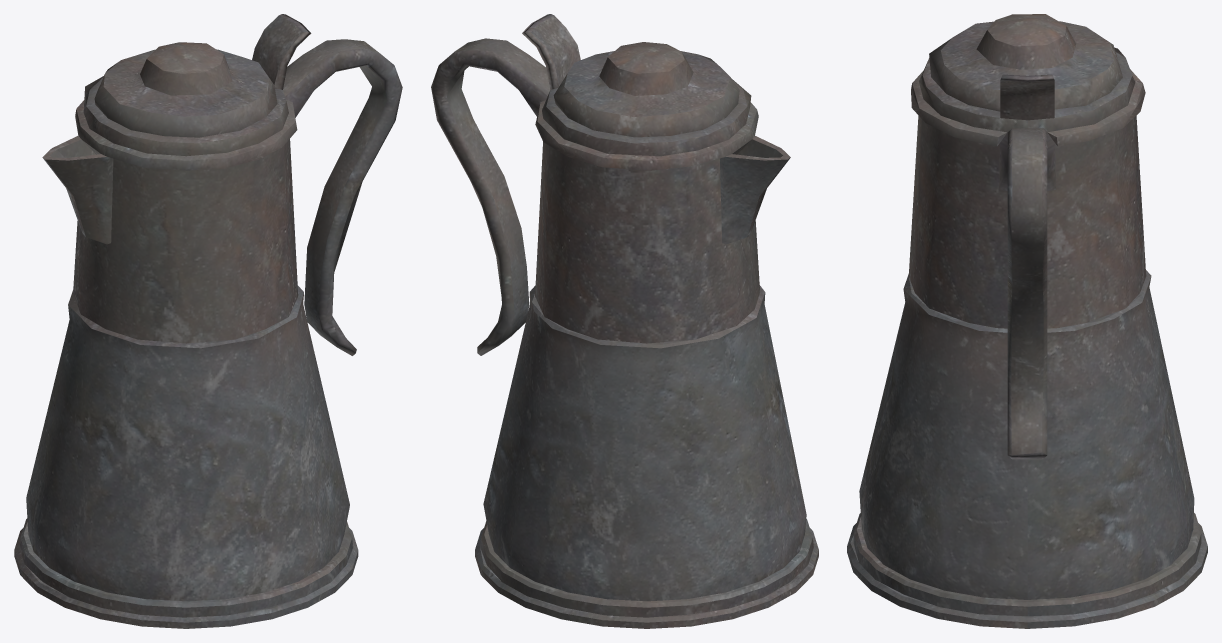
Rendered from SM_Flagon_01.fbx.
3 renders of one model, left to right at view 1: azimuth 30°, elevation 25°; view 2: azimuth 150°, elevation 25°; view 3: azimuth 270°, elevation 25°, orthographic. The views are drawn at different scales.
Visible parts, largest first — view 1: SM_Flagon_01_LOD0; view 2: SM_Flagon_01_LOD0; view 3: SM_Flagon_01_LOD0.
Boxes of the visible parts, x1,y1,x2,y2 form: SM_Flagon_01_LOD0: (14, 14, 402, 628); SM_Flagon_01_LOD0: (431, 14, 818, 628); SM_Flagon_01_LOD0: (847, 14, 1207, 628).
Size of the model in its own units: 22.16 by 18.45 by 30.16.
1 material, 1 textured.
